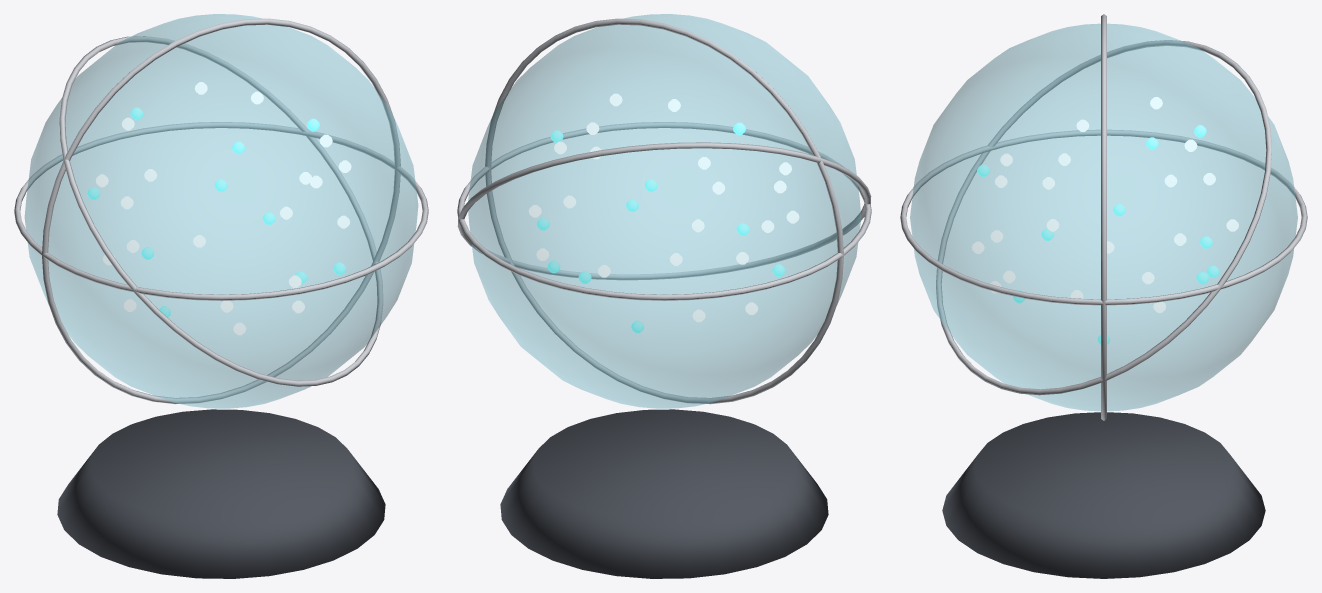
The model's file is star_map_floor_sphere.glb.
3 renders of one model, left to right at view 1: azimuth 30°, elevation 25°; view 2: azimuth 150°, elevation 25°; view 3: azimuth 270°, elevation 25°, orthographic.
Visible parts, largest first — view 1: GD_star_map_floor_sphere__m1, GD_star_map_floor_sphere__m0, GD_star_map_floor_sphere__m4, GD_star_map_floor_sphere__m2, GD_star_map_floor_sphere__m3; view 2: GD_star_map_floor_sphere__m1, GD_star_map_floor_sphere__m0, GD_star_map_floor_sphere__m4, GD_star_map_floor_sphere__m2, GD_star_map_floor_sphere__m3; view 3: GD_star_map_floor_sphere__m1, GD_star_map_floor_sphere__m0, GD_star_map_floor_sphere__m4, GD_star_map_floor_sphere__m2, GD_star_map_floor_sphere__m3.
Part boxes in pixels (box(x1,y1,x2,y2)): GD_star_map_floor_sphere__m1: box(24, 14, 418, 408); GD_star_map_floor_sphere__m0: box(57, 409, 385, 578); GD_star_map_floor_sphere__m4: box(14, 18, 428, 404); GD_star_map_floor_sphere__m2: box(95, 82, 351, 335); GD_star_map_floor_sphere__m3: box(87, 107, 346, 317); GD_star_map_floor_sphere__m1: box(468, 14, 861, 408); GD_star_map_floor_sphere__m0: box(500, 409, 828, 578); GD_star_map_floor_sphere__m4: box(457, 18, 871, 404); GD_star_map_floor_sphere__m2: box(528, 93, 799, 322); GD_star_map_floor_sphere__m3: box(536, 122, 785, 333); GD_star_map_floor_sphere__m1: box(910, 23, 1297, 411); GD_star_map_floor_sphere__m0: box(942, 412, 1265, 578); GD_star_map_floor_sphere__m4: box(900, 14, 1307, 420); GD_star_map_floor_sphere__m2: box(972, 97, 1238, 312); GD_star_map_floor_sphere__m3: box(977, 125, 1219, 344).
Size of the model in its own units: 1.26 by 1.63 by 1.26.
